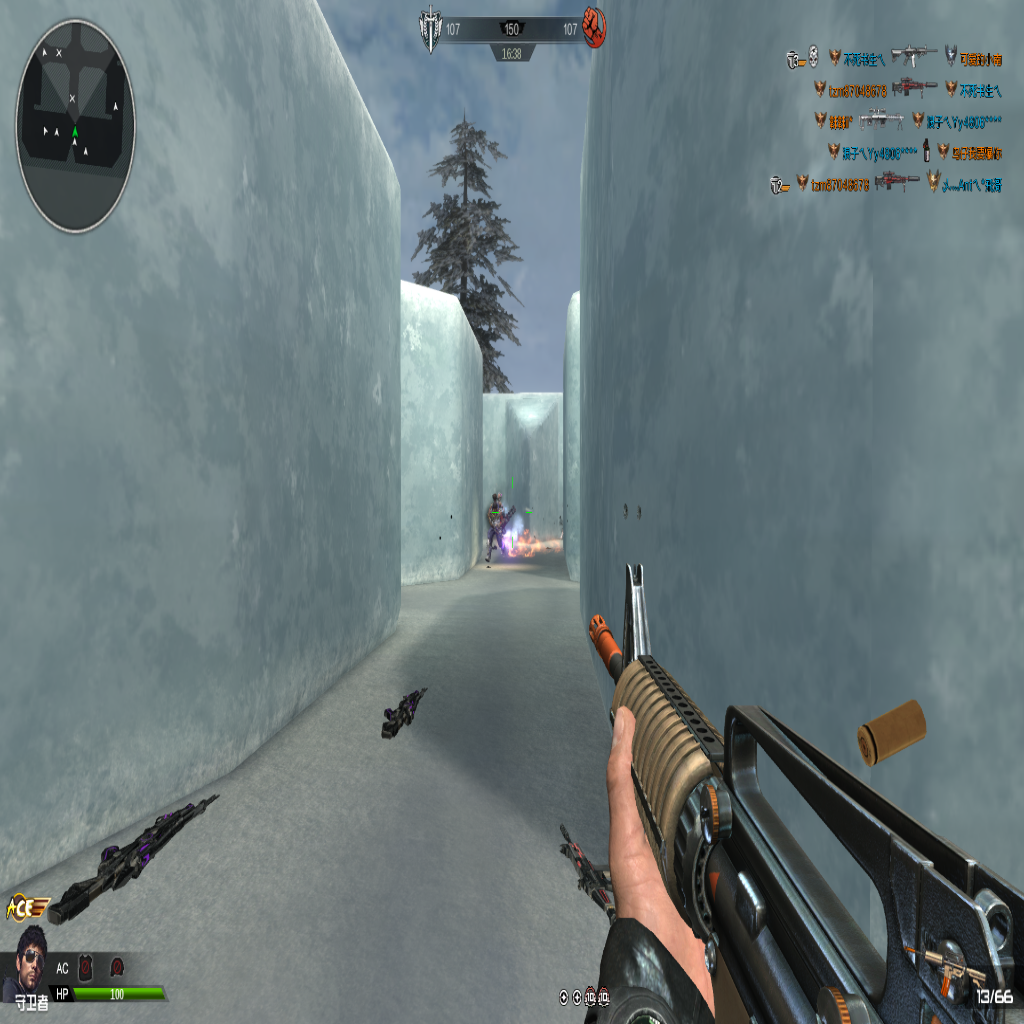tt: (485, 492, 515, 568)
